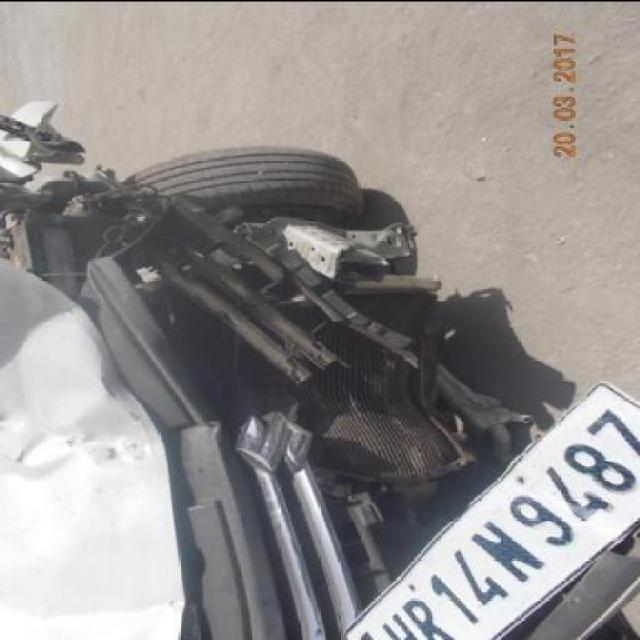damage: (4, 121, 625, 640), (1, 270, 155, 468)
